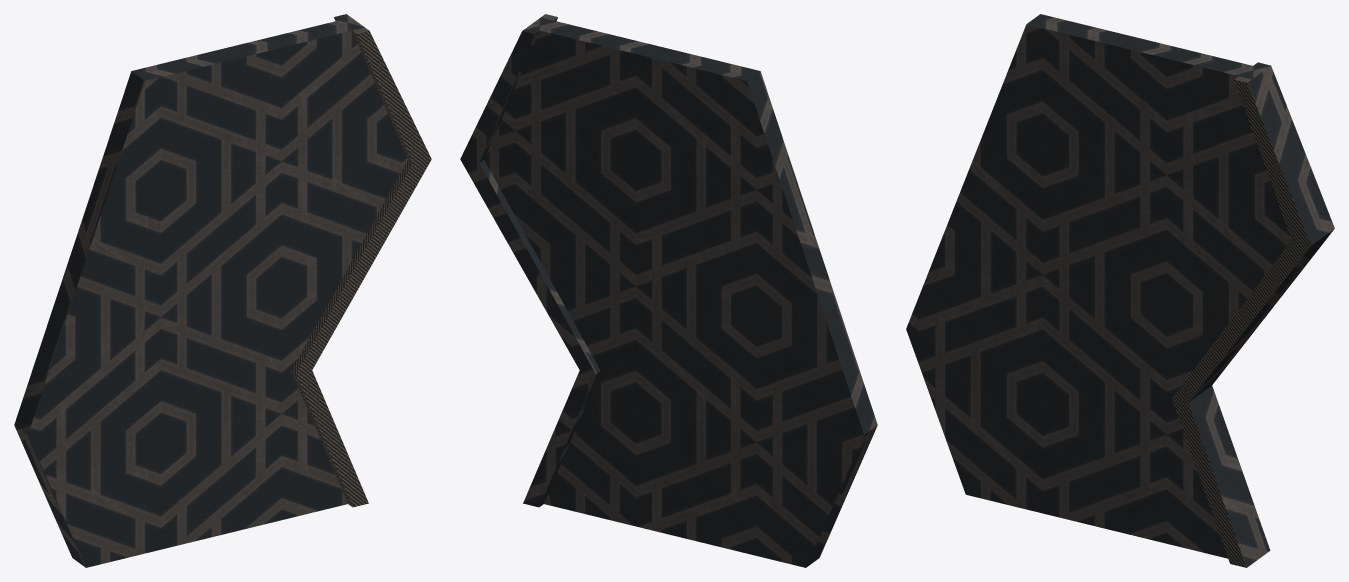
Rendered from puerta-2a.obj.
The picture shows the model from 3 angles, left to right: view 1: azimuth 30°, elevation 25°; view 2: azimuth 150°, elevation 25°; view 3: azimuth 330°, elevation 25°; orthographic projection. The views are drawn at different scales.
Visible parts, largest first — view 1: polySurface2549 polySurface2160; view 2: polySurface2549 polySurface2160; view 3: polySurface2549 polySurface2160.
Part boxes in pixels (x1,y1,x2,y2): polySurface2549 polySurface2160: (14, 14, 431, 567); polySurface2549 polySurface2160: (460, 14, 877, 567); polySurface2549 polySurface2160: (906, 14, 1334, 567).
Size of the model in its own units: 10 by 11.31 by 1.
2 materials, 2 textured.
